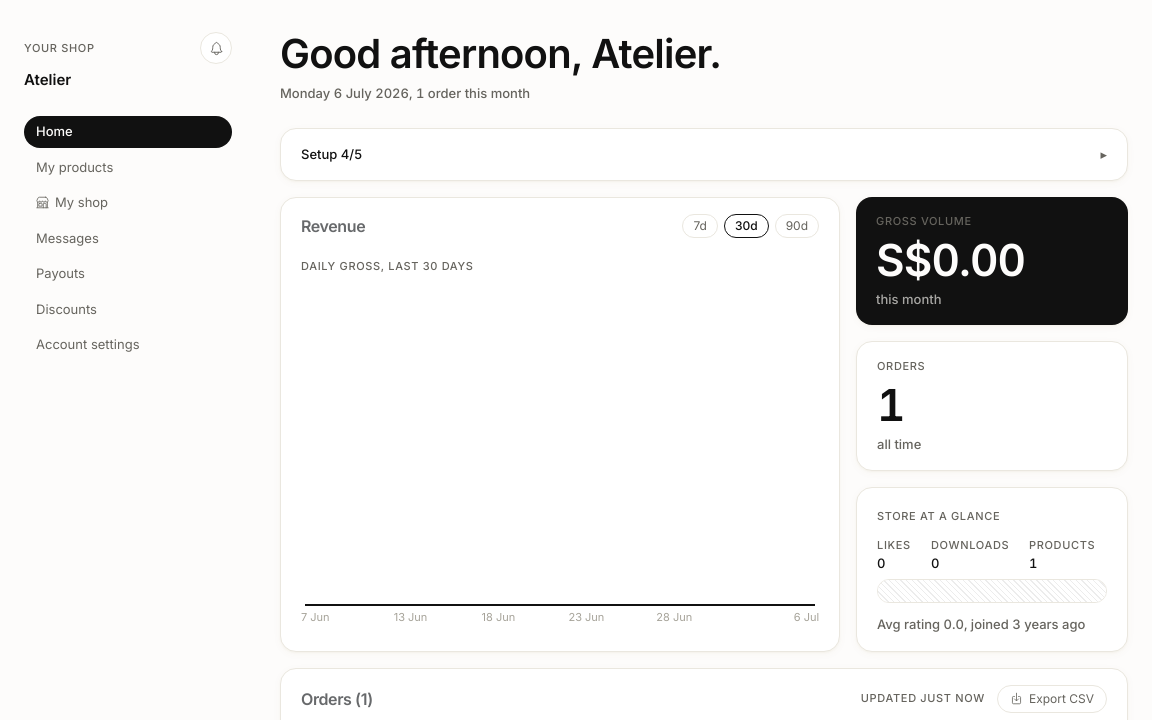
Test: Creator home › collapses the checklist to "Setup 4/5" when only one task remains, expanding on click
Expected: the text "Set up your shop" is not shown
What coordinates should you click on to do the following:
click the button "Setup 4/5 ▸"
I would click on:
 (321, 154)
Its box is [301,144,1107,164].
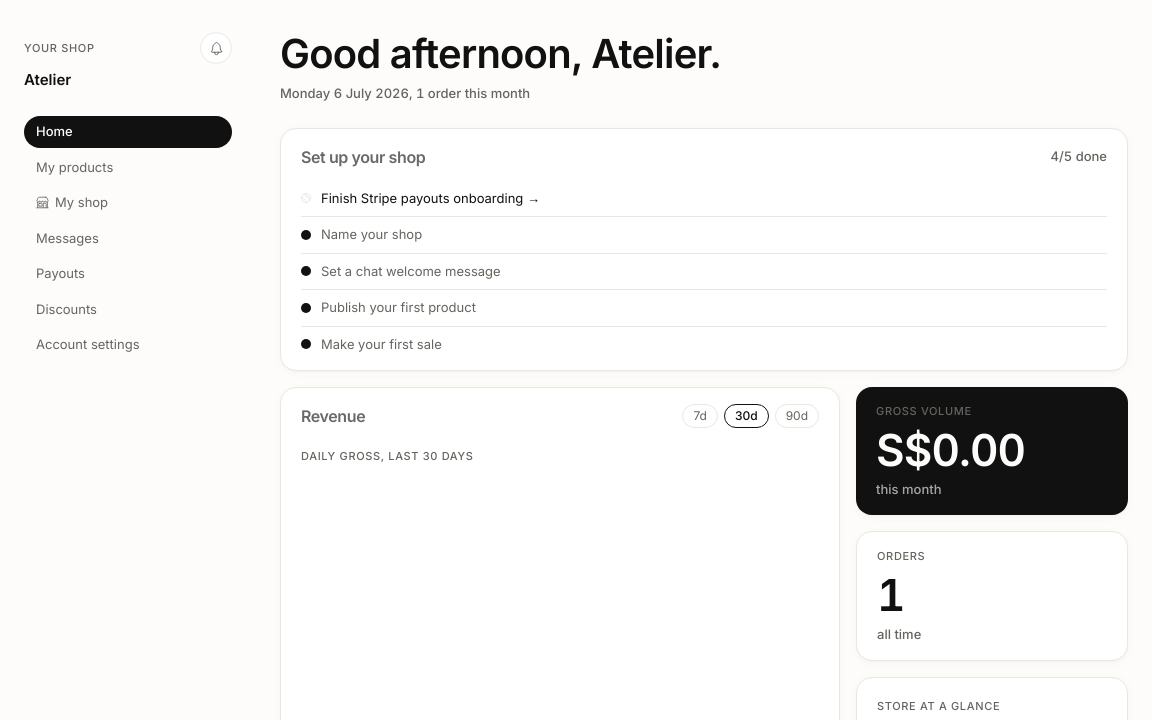
Expected: the heading "Set up your shop" is shown, [301,144,425,168]
Expected: the link "Finish Stripe payouts onboarding →" is shown, [321,188,540,208]
Expected: the text "Name your shop" is shown, [321,225,422,244]
